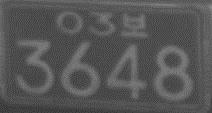0: (56, 9, 83, 35)
3: (14, 38, 54, 96), (87, 8, 116, 37)
4: (106, 42, 147, 100)
6: (59, 38, 102, 97)
8: (152, 43, 195, 103)
보: (120, 11, 148, 37)
